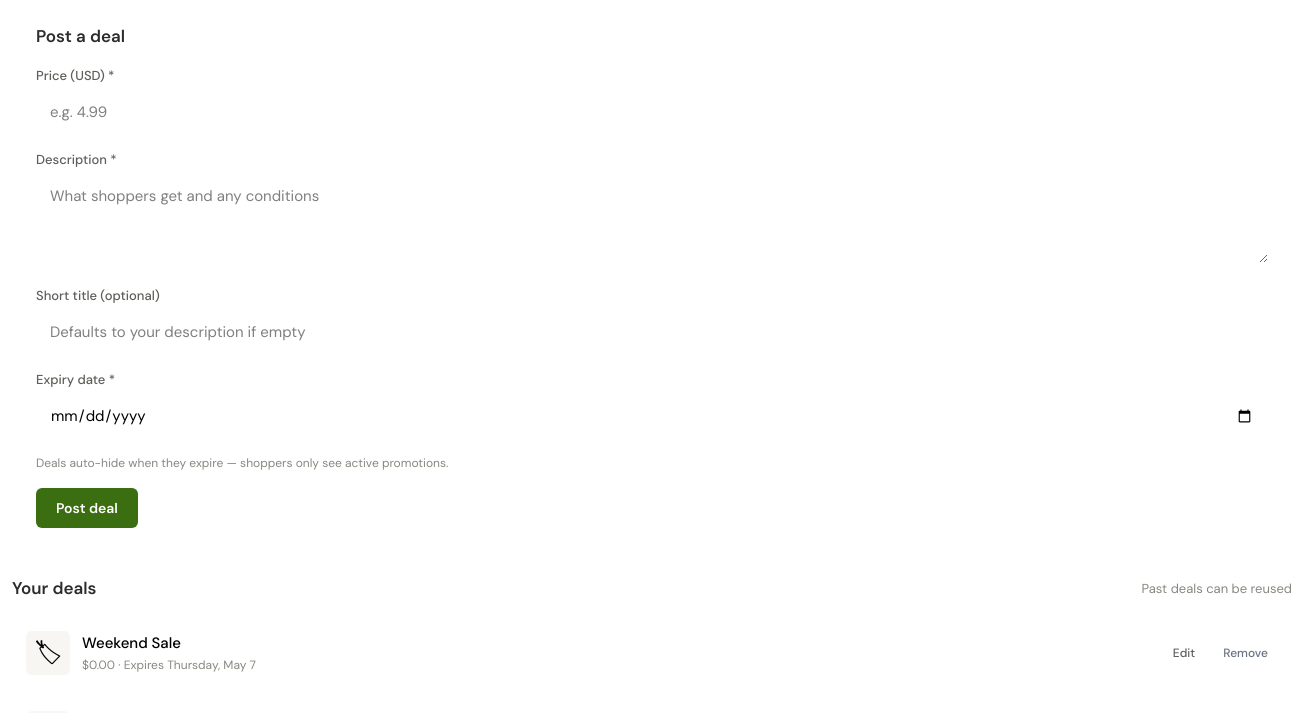
Test case: ManageDealsClient component › removes an active deal when the Remove button is clicked and DELETE succeeds
The width and height of the screenshot is (1304, 713).
Expected: the text "Weekend Sale" is shown, [82,633,181,653]
Click the button "Remove".
click(1246, 653)  # box [1213,640,1278,666]
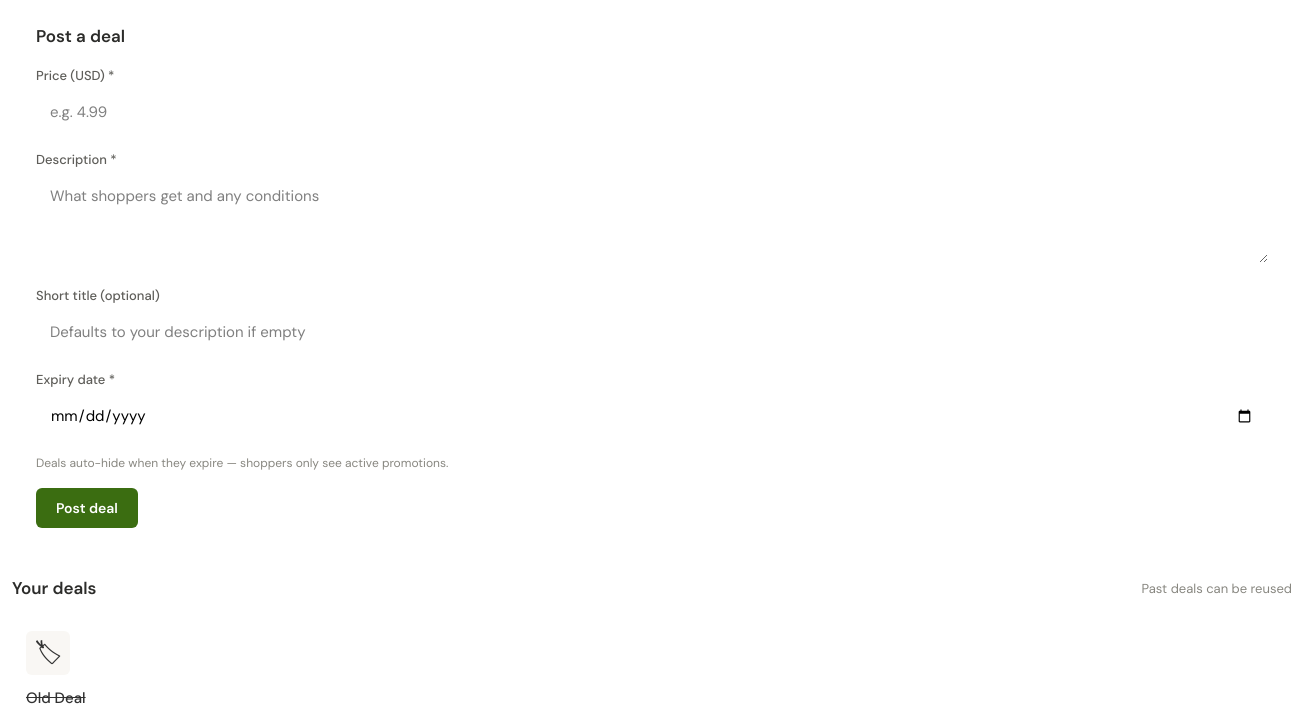
Expected: the text "Weekend Sale" is gone
